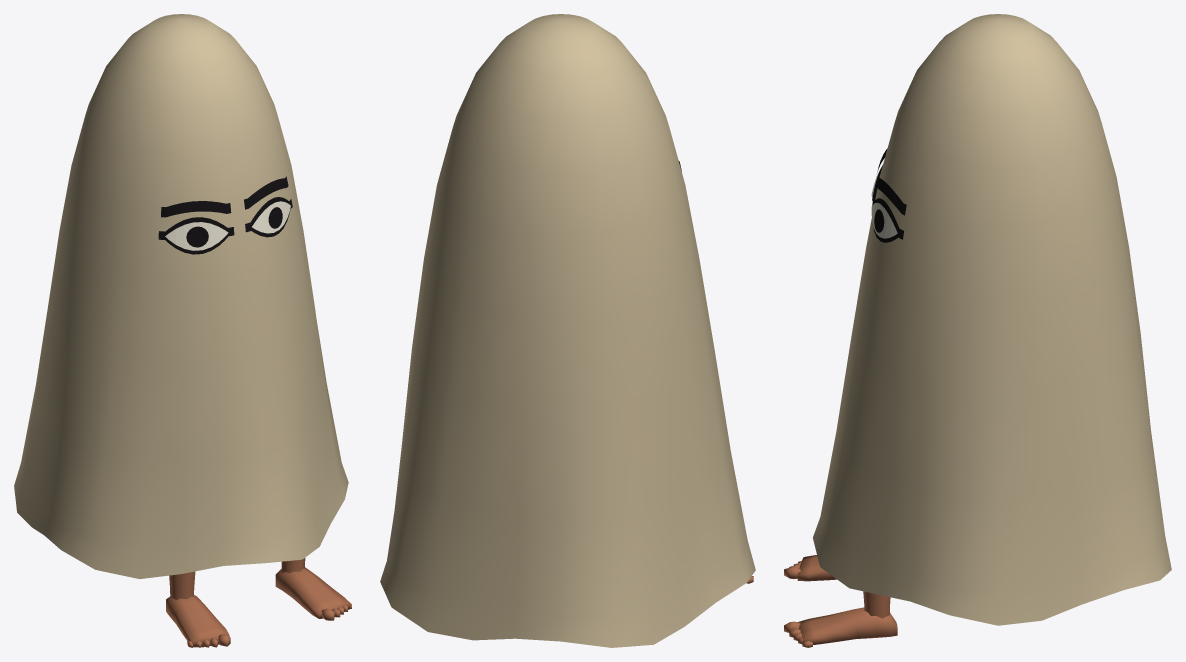
The model's file is medjed.glb.
3 renders of one model, left to right at view 1: azimuth 30°, elevation 25°; view 2: azimuth 150°, elevation 25°; view 3: azimuth 270°, elevation 25°, orthographic. The views are drawn at different scales.
Parts seen in each view (by area): view 1: shroud, foot_right, eye_right, foot_left, eye_left; view 2: shroud; view 3: shroud, foot_left, eye_left, foot_right.
Part boxes in pixels (box(x1,y1,x2,y2)): shroud: box(14, 14, 348, 579); foot_right: box(166, 571, 230, 647); eye_right: box(158, 201, 234, 254); foot_left: box(275, 558, 351, 620); eye_left: box(244, 176, 292, 237); shroud: box(380, 14, 755, 647); shroud: box(813, 14, 1171, 625); foot_left: box(784, 591, 897, 647); eye_left: box(871, 176, 906, 242); foot_right: box(784, 555, 836, 581).
Size of the model in its own units: 0.8346 by 1.5 by 0.8998.
